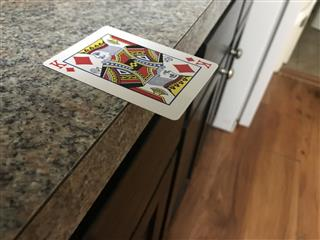KingOfDiamonds: (41, 24, 218, 121)
